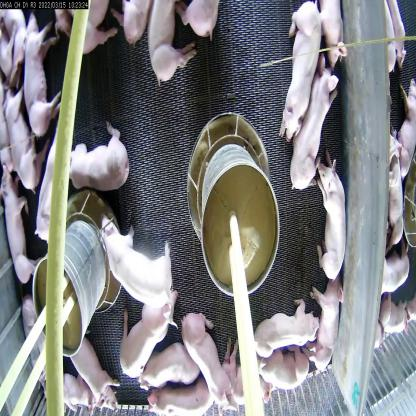Pig: (289, 68, 341, 190), (178, 304, 236, 413), (103, 212, 166, 311), (305, 158, 346, 284), (281, 1, 316, 142), (116, 290, 172, 377), (23, 19, 62, 142), (64, 124, 130, 190), (251, 302, 318, 366), (3, 172, 36, 298), (142, 6, 194, 84), (304, 280, 344, 379), (74, 333, 122, 415), (3, 90, 43, 188), (247, 345, 313, 397)
